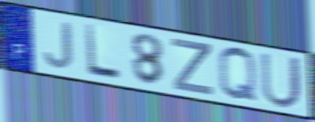8: (130, 32, 167, 88)
J: (42, 21, 75, 71)
L: (84, 22, 123, 83)
Q: (216, 45, 260, 105)
U: (259, 50, 304, 111)
Z: (171, 37, 216, 98)
